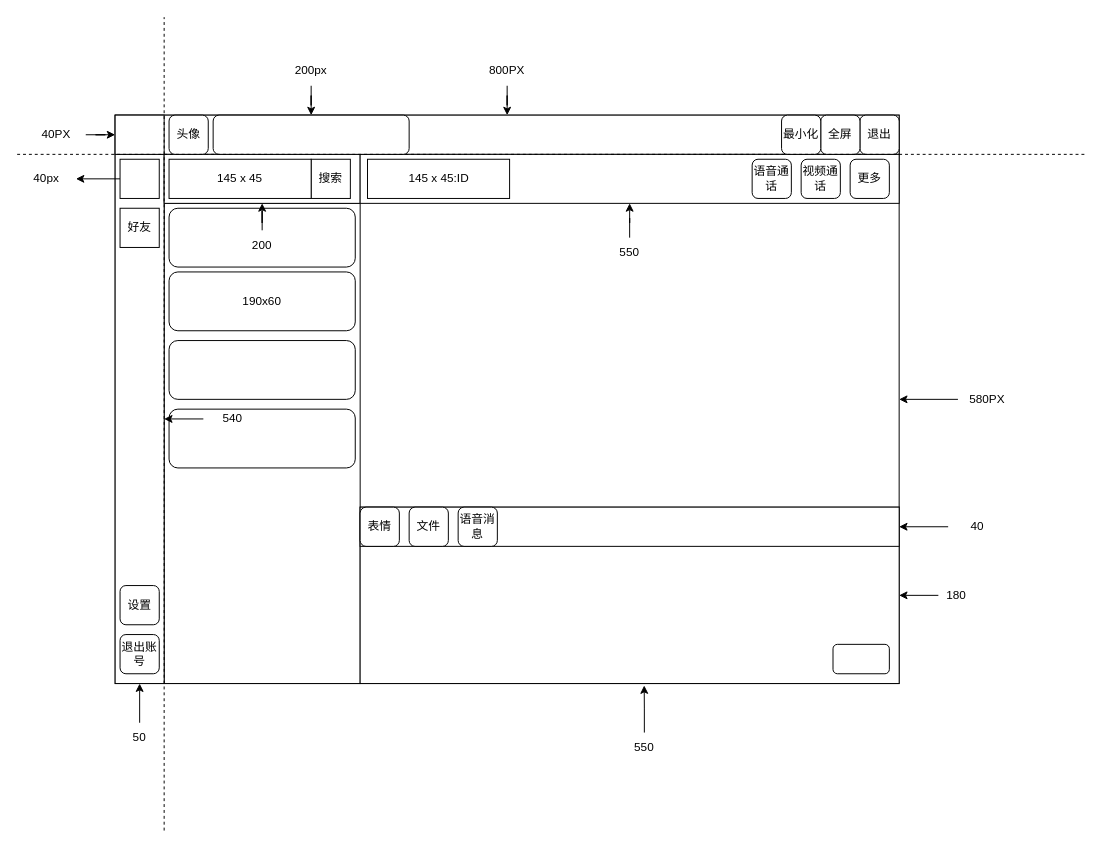
Image size: 1103x849. Some labels were removed from this diagram. The shapes that lost their labels are listed below. From the top down, each one's centre as x and y in pixels, then its label:
point (139, 134): icon
point (310, 134): id
point (139, 178): 消息
point (860, 658): 发送
